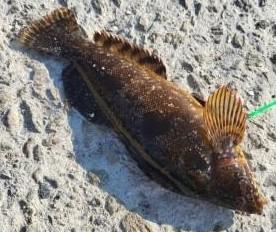fish: (18, 8, 267, 212)
